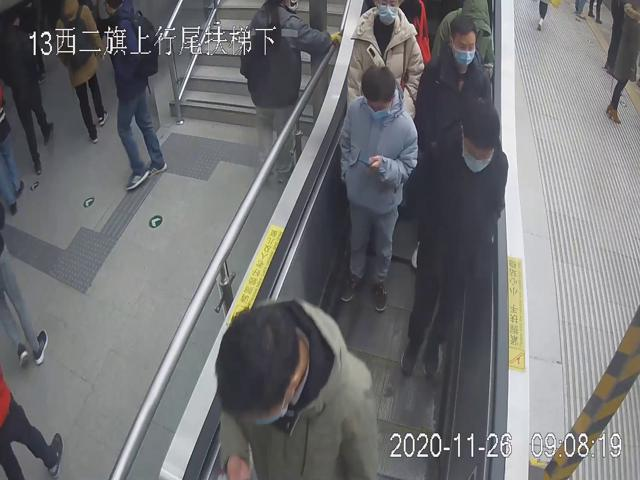person: (398, 92, 508, 380), (332, 62, 419, 316), (419, 13, 495, 165), (343, 0, 425, 120)
